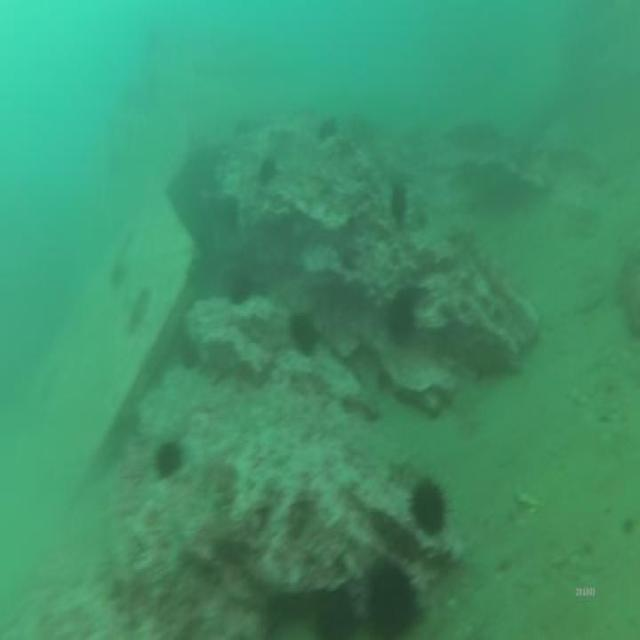echinus: (364, 548, 429, 640), (405, 465, 457, 545), (284, 302, 324, 365), (383, 284, 420, 350), (154, 433, 188, 484), (225, 262, 255, 312), (386, 174, 411, 232)
